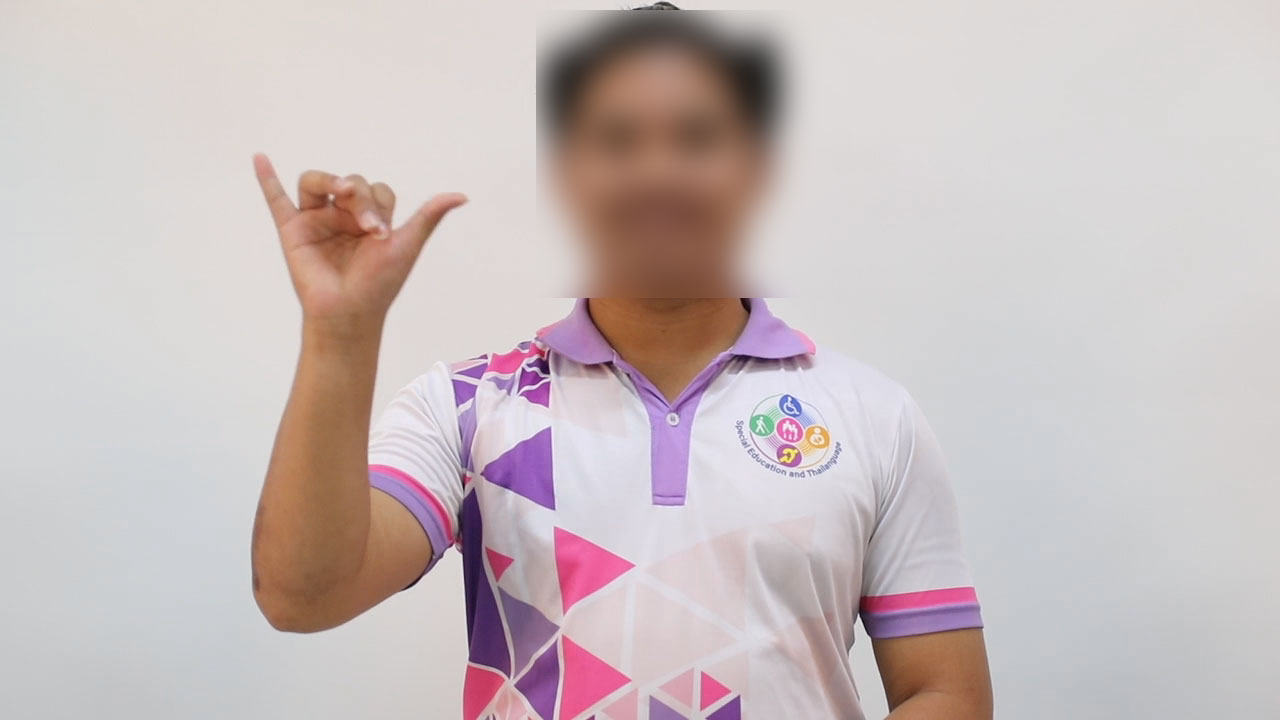yor: (221, 124, 489, 351)
